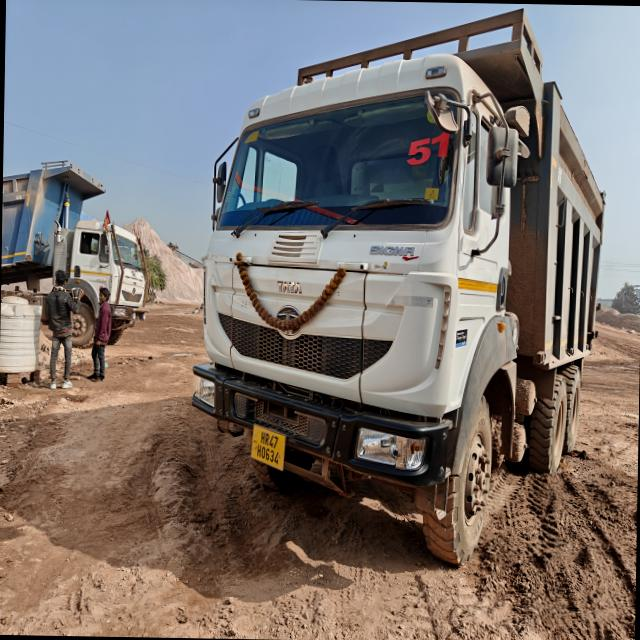license_plate: (251, 425, 285, 471)
